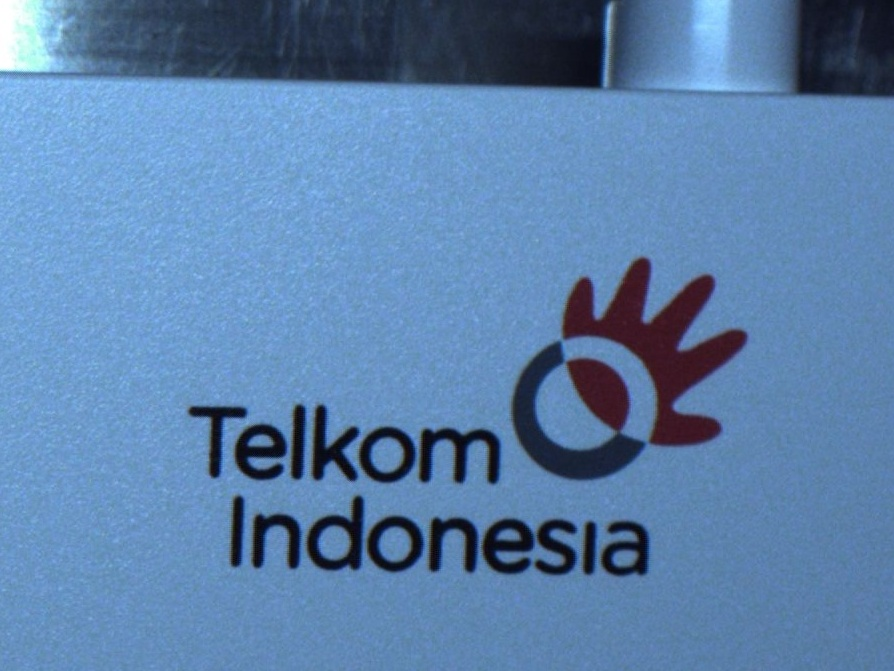BQ_IndonTelkom: (160, 255, 754, 581)
